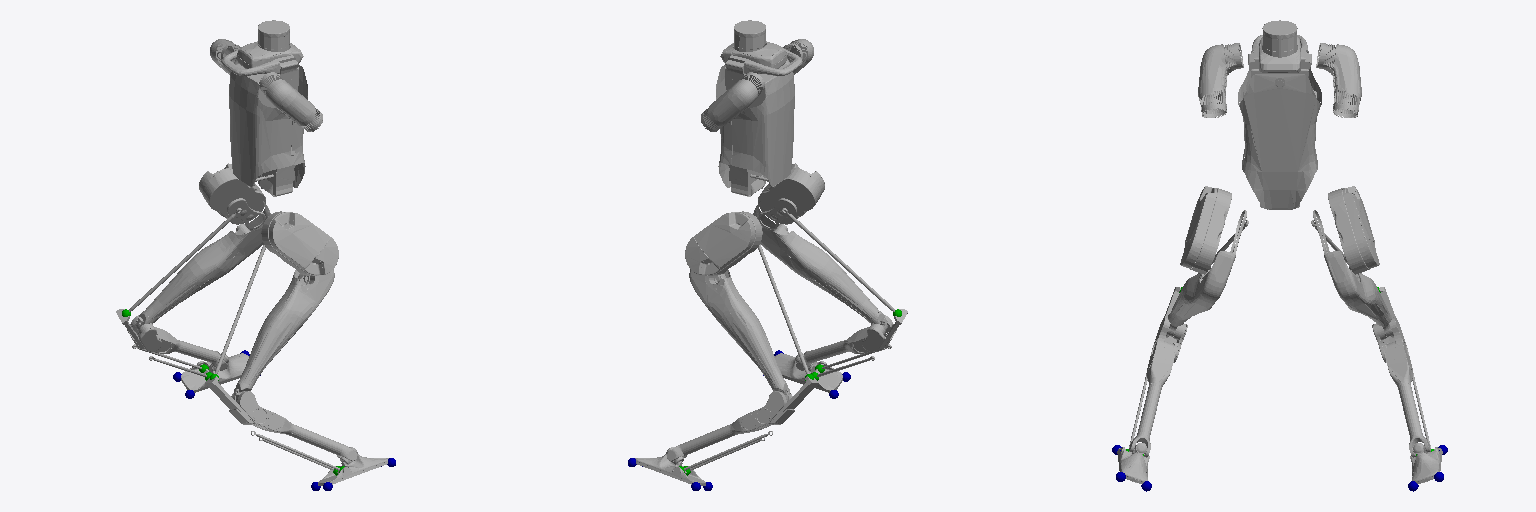
--- Facts derived from the render (not from the file) ---
Views: 3 orthographic renders of the robot side by side, from view 1: azimuth 30°, elevation 25°; view 2: azimuth 150°, elevation 25°; view 3: azimuth 270°, elevation 25°.
Model digit with 62 links and 61 joints (37 revolute, 24 fixed), rooted at world, posed all joints at 0.
Links seen in each view (by area): view 1: torso, left_shin, right_shin, right_hip_pitch, left_hip_pitch, right_tarsus, right_shoulder_pitch, left_tarsus, left_toe_roll, right_toe_roll, left_achillies_rod, left_shoulder_pitch; view 2: torso, right_shin, left_shin, left_hip_pitch, right_hip_pitch, left_tarsus, left_shoulder_pitch, right_tarsus, right_toe_roll, left_toe_roll, right_achillies_rod, right_shoulder_pitch (+1 smaller); view 3: torso, left_hip_pitch, right_hip_pitch, left_tarsus, right_tarsus, left_shin, right_shin, left_shoulder_pitch, right_shoulder_pitch, left_toe_roll, right_toe_roll.
Link boxes in pixels (bbox=[...]): torso: bbox=[221, 20, 307, 196]; left_shin: bbox=[136, 201, 270, 330]; right_shin: bbox=[234, 269, 334, 401]; right_hip_pitch: bbox=[261, 211, 338, 275]; left_hip_pitch: bbox=[199, 163, 265, 229]; right_tarsus: bbox=[229, 391, 356, 460]; right_shoulder_pitch: bbox=[259, 72, 322, 131]; left_tarsus: bbox=[127, 315, 227, 370]; left_toe_roll: bbox=[181, 353, 248, 392]; right_toe_roll: bbox=[318, 447, 388, 485]; left_achillies_rod: bbox=[129, 208, 241, 311]; left_shoulder_pitch: bbox=[210, 39, 240, 74]; torso: bbox=[716, 20, 802, 196]; right_shin: bbox=[753, 201, 887, 330]; left_shin: bbox=[689, 269, 789, 401]; left_hip_pitch: bbox=[685, 211, 762, 275]; right_hip_pitch: bbox=[758, 163, 824, 229]; left_tarsus: bbox=[667, 391, 794, 460]; left_shoulder_pitch: bbox=[701, 72, 764, 131]; right_tarsus: bbox=[796, 315, 896, 370]; right_toe_roll: bbox=[775, 353, 842, 392]; left_toe_roll: bbox=[635, 447, 705, 485]; right_achillies_rod: bbox=[782, 208, 894, 311]; right_shoulder_pitch: bbox=[783, 39, 813, 74]; torso: bbox=[1238, 20, 1321, 209]; left_hip_pitch: bbox=[1313, 186, 1379, 274]; right_hip_pitch: bbox=[1180, 186, 1246, 274]; left_tarsus: bbox=[1372, 317, 1430, 457]; right_tarsus: bbox=[1129, 317, 1187, 457]; left_shin: bbox=[1324, 251, 1393, 337]; right_shin: bbox=[1166, 251, 1235, 337]; left_shoulder_pitch: bbox=[1316, 43, 1361, 117]; right_shoulder_pitch: bbox=[1198, 43, 1243, 117]; left_toe_roll: bbox=[1410, 443, 1442, 483]; right_toe_roll: bbox=[1117, 443, 1149, 483].
Size in the robot's own frame: 0.5717 by 0.9632 by 1.42 metres.
19 mesh visuals loaded from 25 distinct referenced files (10 binary STL); not drawn: 22 (reference not matched to a file when rendering).

robot.urdf — digit:
<?xml version="1.0" encoding="utf-8"?>
<robot name="digit">
    <mujoco>
        <compiler meshdir="./meshes_new/" balanceinertia="false" discardvisual="false"/>
    </mujoco>
    <link name="world" />
    <joint name="base_joint" type="revolute">
        <origin rpy="0 0 0" xyz="0 0 0.0"/>
        <parent link="world"/>
        <child link="torso"/>
    </joint>

    <link name="torso">
        <inertial>
            <origin rpy="0 0 0" xyz="0.001637 0.0002 0.259547"/>
            <mass value="15.028392"/>
            <inertia ixx="0.376284" ixy="-8.8e-05" ixz="0.008378" iyy="0.342655" iyz="6.7e-05" izz="0.100648"/>
        </inertial>
        <visual>
            <origin rpy="0 0 0" xyz="0 0 0"/>
            <geometry>
                <mesh filename="./meshes_new/torso.stl"/>
            </geometry>

            <material name="LightGrey">
                <color rgba="0.7 0.7 0.7 1.0"/>
            </material>
        </visual>
        <!-- <collision>
            <origin rpy="0 0 0" xyz="0 0 0"/>
            <geometry>
                <mesh filename="./meshes_new/torso.stl"/>
            </geometry>
        </collision> -->
    </link>

    <joint name="left_waist_cap_joint" type="fixed">
        <origin rpy="-1.57079632679 1.57 1.57079632679" xyz="-0.001 0.09 0.0"/>
        <axis xyz="0 0 1"/>
        <parent link="torso"/>
        <child link="left_waist_cap"/>
        <limit effort="1.4" lower="-1.309" upper="1.309" velocity="12.5"/>
    </joint>

    <link name="left_waist_cap">
        <inertial>
            <origin rpy="0 0 0" xyz="9e-06 0.003158 0.023405"/>
            <mass value="0.535396"/>
            <inertia ixx="0.000704" ixy="-1.4e-05" ixz="1.2e-05" iyy="0.00075" iyz="-3.5e-05" izz="0.000298"/>
        </inertial>
        <visual>
            <origin rpy="0 0 0" xyz="0 0 0"/>
            <geometry>
                <mesh filename="./meshes_new/left-waist-cap.stl" scale="1 -1 1"/>
            </geometry>
            <material name="LightGrey">
                <color rgba="0.7 0.7 0.7 1.0"/>
            </material>
        </visual>
        <!-- <collision>
            <origin rpy="0 0 0" xyz="0 0 0"/>
            <geometry>
                <mesh filename="./meshes_new/shoulder-roll-housing.stl" scale="1 -1 1"/>
            </geometry>
        </collision> -->
    </link>

    <joint name="left-hip-roll_joint" type="revolute">
        <origin rpy="1.57079632679 -1.1955506 -1.57079632679" xyz="-0.001 0.091 0"/>
        <axis xyz="0 0 1"/>
        <parent link="torso"/>
        <child link="left_hip_roll"/>
        <limit effort="1.4" lower="-1.0472" upper="1.0472" velocity="12.15"/>
    </joint>
    <link name="left_hip_roll">
        <inertial>
            <origin rpy="0 0 0" xyz="-0.001967 0.000244 0.031435"/>
            <mass value="0.915088"/>
            <inertia ixx="0.001017" ixy="-3e-06" ixz="1.3e-05" iyy="0.001148" iyz="-4e-06" izz="0.000766"/>
        </inertial>
        <visual>
            <origin rpy="0 0 0" xyz="0 0 0"/>
            <geometry>
                <mesh filename="./meshes_new/hip-yaw-housing.stl"/>
            </geometry>

            <material name="LightGrey">
                <color rgba="0.7 0.7 0.7 1.0"/>
            </material>
        </visual>
        <!-- <collision>
            <origin rpy="0 0 0" xyz="0 0 0"/>
            <geometry>
                <mesh filename="./meshes_new/hip-yaw-housing.stl"/>
            </geometry>
        </collision> -->
    </link>

    <joint name="left_hip_yaw_joint" type="revolute">
        <origin rpy="0 -1.57079632679 0" xyz="-0.0505 0 0.044"/>
        <axis xyz="0 0 1"/>
        <parent link="left_hip_roll"/>
        <child link="left_hip_yaw"/>
        <limit effort="1.4" lower="-0.698132" upper="0.698132" velocity="12.15"/>
    </joint>

    <link name="left_hip_yaw">
        <inertial>
            <origin rpy="0 0 0" xyz="1e-05 -0.001945 0.042033"/>
            <mass value="0.818753"/>
            <inertia ixx="0.001627" ixy="-1e-06" ixz="2e-06" iyy="0.001929" iyz="5.3e-05" izz="0.00077"/>
        </inertial>
        <visual>
            <origin rpy="0 0 0" xyz="0 0 0"/>
            <geometry>
                <mesh filename="./meshes_new/hip-pitch-housing.stl"/>
            </geometry>

            <material name="LightGrey">
                <color rgba="0.7 0.7 0.7 1.0"/>
            </material>
        </visual>
        <!-- <collision>
            <origin rpy="0 0 0" xyz="0 0 0"/>
            <geometry>
                <mesh filename="./meshes_new/hip-pitch-housing.stl"/>
            </geometry>
        </collision> -->
    </link>

    <joint name="left_hip_pitch_joint" type="revolute">
        <origin rpy="-1.57079632679 -0.7853981 3.1415927" xyz="0 0.004 0.068"/>
        <axis xyz="0 0 -1"/>
        <parent link="left_hip_yaw"/>
        <child link="left_hip_pitch"/>
        <limit effort="12.5" lower="-1.0472" upper="1.57079632679" velocity="8.5"/>
    </joint>

    <link name="left_hip_pitch">
        <inertial>
            <origin rpy="0 0 0" xyz="0.060537 0.000521 -0.038857"/>
            <mass value="6.244279"/>
            <inertia ixx="0.011533" ixy="-0.000171" ixz="0.000148" iyy="0.033345" iyz="0.000178" izz="0.033958"/>
        </inertial>
        <visual>
            <origin rpy="0 0 0" xyz="0 0 0"/>
            <geometry>
                <mesh filename="./meshes_new/hip-pitch.stl"/>
            </geometry>

            <material name="LightGrey">
                <color rgba="0.7 0.7 0.7 1.0"/>
            </material>
        </visual>
        <!-- <collision>
            <origin rpy="0 0 0" xyz="0 0 0"/>
            <geometry>
                <mesh filename="./meshes_new/hip-pitch.stl"/>
            </geometry>
        </collision> -->
    </link>

    <joint name="left_achillies_rod_joint" type="revolute">
        <origin rpy="0.0087529 0.0708516 -1.435541" xyz="0 0 0.046"/>
        <axis xyz="0 1 0"/>
        <parent link="left_hip_pitch"/>
        <child link="left_achillies_rod"/>
        <limit effort="12.5" lower="-1.5" upper="1.5" velocity="8.5085"/>
    </joint>

    <!-- <link name="left_achillies_rod_parent"/>

    <joint name="left_achillies_rod_joint2" type="revolute">
        <origin rpy="0 0 0" xyz="0 0 0"/>
        <axis xyz="0 0 1"/>
        <parent link="left_achillies_rod_parent"/>
        <child link="left_achillies_rod"/>
        <limit effort="12.5" lower="-1.5" upper="1.5" velocity="8.5085"/>
    </joint> -->

    <link name="left_achillies_rod">
        <inertial>
            <origin rpy="0 0 0" xyz="0.2506 0 0"/>
            <mass value="0.178148"/>
            <inertia ixx="3e-06" ixy="0" ixz="0" iyy="0.004501" iyz="0" izz="0.004501"/>
        </inertial>
        <visual>
            <origin rpy="0 0 0" xyz="0 0 0"/>
            <geometry>
                <mesh filename="./meshes_new/achilles-rod.stl"/>
            </geometry>

            <material name="LightGrey">
                <color rgba="0.7 0.7 0.7 1.0"/>
            </material>
        </visual>
        <!-- <collision>
            <origin rpy="0 0 0" xyz="0 0 0"/>
            <geometry>
                <mesh filename="./meshes_new/achilles-rod.stl"/>
            </geometry>
        </collision> -->
    </link>

    <joint name="left_knee_joint" type="revolute">
        <origin rpy="0 0 -1.57079632679" xyz="0.12 0 0.0045"/>
        <axis xyz="0 0 1"/>
        <parent link="left_hip_pitch"/>
        <child link="left_knee"/>
        <limit effort="12.5" lower="-1.2392" upper="0.8727" velocity="8.5085"/>
    </joint>

    <link name="left_knee">
        <inertial>
            <origin rpy="0 0 0" xyz="0.045641 0.042154 0.001657"/>
            <mass value="1.227077"/>
            <inertia ixx="0.002643" ixy="-0.001832" ixz="6.6e-05" iyy="0.005098" iyz="4.5e-05" izz="0.007019"/>
        </inertial>
        <visual>
            <origin rpy="0 0 0" xyz="0 0 0"/>
            <geometry>
                <mesh filename="./meshes_new/knee.stl"/>
            </geometry>

            <material name="LightGrey">
                <color rgba="0.7 0.7 0.7 1.0"/>
            </material>
        </visual>
        <!-- <collision>
            <origin rpy="0 0 0" xyz="0 0 0"/>
            <geometry>
                <mesh filename="./meshes_new/knee.stl"/>
            </geometry>
        </collision> -->
    </link>

    <joint name="left_shin_joint" type="revolute">
        <origin rpy="0 0 0" xyz="0.060677 0.047406 0"/>
        <axis xyz="0 0 1"/>
        <parent link="left_knee"/>
        <child link="left_shin"/>
        <limit effort="0" lower="-3.14" upper="3.14" velocity="15"/>
    </joint>

    <link name="left_shin">
        <inertial>
            <origin rpy="0 0 0" xyz="0.174265 0.010265 0.00107"/>
            <mass value="0.895793"/>
            <inertia ixx="0.001128" ixy="0.001098" ixz="0.000196" iyy="0.022492" iyz="-3e-06" izz="0.022793"/>
        </inertial>
        <visual>
            <origin rpy="0 0 0" xyz="0 0 0"/>
            <geometry>
                <mesh filename="./meshes_new/shin.stl"/>
            </geometry>

            <material name="LightGrey">
                <color rgba="0.7 0.7 0.7 1.0"/>
            </material>
        </visual>
        <!-- <collision>
            <origin rpy="0 0 0" xyz="0 0 0"/>
            <geometry>
                <mesh filename="./meshes_new/shin.stl"/>
            </geometry>
        </collision> -->
    </link>

    <joint name="left_tarsus_joint" type="revolute">
        <origin rpy="0 0 1.7976891" xyz="0.434759 0.02 0"/>
        <axis xyz="0 0 1"/>
        <parent link="left_shin"/>
        <child link="left_tarsus"/>
        <limit effort="0" lower="-0.8779" upper="1.2497" velocity="20"/>
    </joint>

    <link name="left_tarsus">
        <inertial>
            <origin rpy="0 0 0" xyz="0.100777 -0.029183 0.000678"/>
            <mass value="1.322865"/>
            <inertia ixx="0.000932" ixy="0.00061" ixz="0.000102" iyy="0.016409" iyz="9e-06" izz="0.016501"/>
        </inertial>
        <visual>
            <origin rpy="0 0 0" xyz="0 0 0"/>
            <geometry>
                <mesh filename="./meshes_new/tarsus.stl"/>
            </geometry>

            <material name="LightGrey">
                <color rgba="0.7 0.7 0.7 1.0"/>
            </material>
        </visual>
        <!-- <collision>
            <origin rpy="0 0 0" xyz="0 0 0"/>
            <geometry>
                <mesh filename="./meshes_new/tarsus.stl"/>
            </geometry>
        </collision> -->
    </link>

    <joint name="left_heel_spring_joint" type="revolute">
        <origin rpy="-0.0689073 -0.0370354 2.7207176" xyz="-0.01766 -0.029456 0.00104"/>
        <axis xyz="0 0 1"/>
        <parent link="left_tarsus"/>
        <child link="left_heel_spring"/>
        <limit effort="0.9" lower="-0.104719753333" upper="0.104719753333" velocity="11.5"/>
    </joint>

    <link name="left_heel_spring">
        <inertial>
            <origin rpy="0 0 0" xyz="0.049086 0.004739 -4.5e-05"/>
            <mass value="0.230018"/>
            <inertia ixx="5.5e-05" ixy="1.5e-05" ixz="1e-06" iyy="0.00074" iyz="0" izz="0.000701"/>
        </inertial>
        <visual>
            <origin rpy="0 0 0" xyz="0 0 0"/>
            <geometry>
                <mesh filename="./meshes_new/heel-spring.stl"/>
            </geometry>

            <material name="LightGrey">
                <color rgba="0.7 0.7 0.7 1.0"/>
            </material>
        </visual>
        <!-- <collision>
            <origin rpy="0 0 0" xyz="0 0 0"/>
            <geometry>
                <mesh filename="./meshes_new/heel-spring.stl"/>
            </geometry>
        </collision> -->
    </link>

    <joint name="left_toe_A_joint" type="revolute">
        <origin rpy="3.1415927 0 -1.6050048" xyz="0.059 -0.034 -0.0276"/>
        <axis xyz="0 0 1"/>
        <parent link="left_tarsus"/>
        <child link="left_toe_A"/>
        <limit effort="0.9" lower="-0.912807183222" upper="1.2644910215" velocity="11.5"/>
    </joint>

    <link name="left_toe_A">
        <inertial>
            <origin rpy="0 0 0" xyz="0.005161 1e-06 -0.002248"/>
            <mass value="0.139557"/>
            <inertia ixx="2.9e-05" ixy="0" ixz="-4e-06" iyy="5.8e-05" iyz="0" izz="7.4e-05"/>
        </inertial>
        <visual>
            <origin rpy="0 0 0" xyz="0 0 0"/>
            <geometry>
                <mesh filename="./meshes_new/toe-output-ll.stl"/>
            </geometry>

            <material name="LightGrey">
                <color rgba="0.7 0.7 0.7 1.0"/>
            </material>
        </visual>
        <!-- <collision>
            <origin rpy="0 0 0" xyz="0 0 0"/>
            <geometry>
                <mesh filename="./meshes_new/toe-output-ll.stl"/>
            </geometry>
        </collision> -->
    </link>

    <joint name="left_toe_A_rod_joint" type="revolute">
        <origin rpy="-0.0374899 0.0049742 -1.5964351" xyz="0.057 0 -0.008"/>
        <axis xyz="0 1 0"/>
        <parent link="left_toe_A"/>
        <child link="left_toe_A_rod"/>
        <limit effort="0.9" lower="-3.785398163397" upper="3.785398163397" velocity="11.5"/>
    </joint>

    <!-- <link name="left_toe_A_rod_parent" />

    <joint name="left_toe_A_rod_joint" type="revolute">
        <origin rpy="0 0 0" xyz="0 0 0"/>
        <axis xyz="0 0 1"/>
        <parent link="left_toe_A_rod_parent"/>
        <child link="left_toe_A_rod"/>
        <limit effort="0.9" lower="-3.785398163397" upper="3.785398163397" velocity="11.5"/>
    </joint> -->

    <link name="left_toe_A_rod">
        <inertial>
            <origin rpy="0 0 0" xyz="0.171071 0 0"/>
            <mass value="0.090983"/>
            <inertia ixx="1e-06" ixy="0" ixz="0" iyy="0.001182" iyz="0" izz="0.001182"/>
        </inertial>
        <visual>
            <origin rpy="0 0 0" xyz="0 0 0"/>
            <geometry>
                <mesh filename="./meshes_new/toe-A-rod.stl"/>
            </geometry>

            <material name="LightGrey">
                <color rgba="0.7 0.7 0.7 1.0"/>
            </material>
        </visual>
        <!-- <collision>
            <origin rpy="0 0 0" xyz="0 0 0"/>
            <geometry>
                <mesh filename="./meshes_new/toe-A-rod.stl"/>
            </geometry>
        </collision> -->
    </link>

    <joint name="left_toe_B_joint" type="revolute">
        <origin rpy="0 0 -1.6049813" xyz="0.111 -0.034 0.0276"/>
        <axis xyz="0 0 1"/>
        <parent link="left_tarsus"/>
        <child link="left_toe_B"/>
        <limit effort="0.9" lower="-0.912807183222" upper="1.2644910215" velocity="11.5"/>
    </joint>

    <link name="left_toe_B">
        <inertial>
            <origin rpy="0 0 0" xyz="0.005161 1e-06 -0.002248"/>
            <mass value="0.139557"/>
            <inertia ixx="2.9e-05" ixy="0" ixz="-4e-06" iyy="5.8e-05" iyz="0" izz="7.4e-05"/>
        </inertial>
        <visual>
            <origin rpy="0 0 0" xyz="0 0 0"/>
            <geometry>
                <mesh filename="./meshes_new/toe-output-lr.stl"/>
            </geometry>

            <material name="LightGrey">
                <color rgba="0.7 0.7 0.7 1.0"/>
            </material>
        </visual>
        <!-- <collision>
            <origin rpy="0 0 0" xyz="0 0 0"/>
            <geometry>
                <mesh filename="./meshes_new/toe-output-lr.stl"/>
            </geometry>
        </collision> -->
    </link>

    <joint name="left_toe_B_rod_joint" type="revolute">
        <origin rpy="-0.0536482 0.0051326 1.5948474" xyz="0.057 0 -0.008"/>
        <axis xyz="0 1 0"/>
        <parent link="left_toe_B"/>
        <child link="left_toe_B_rod"/>
        <limit effort="0.9" lower="-3.785398163397" upper="3.785398163397" velocity="11.5"/>
    </joint>

    <!-- <link name="left_toe_B_rod_parent" />

    <joint name="left_toe_B_rod_joint" type="revolute">
        <origin rpy="0 0 0" xyz="0 0 0"/>
        <axis xyz="0 0 1"/>
        <parent link="left_toe_B_rod_parent"/>
        <child link="left_toe_B_rod"/>
        <limit effort="0.9" lower="-3.785398163397" upper="3.785398163397" velocity="11.5"/>
    </joint> -->

    <link name="left_toe_B_rod">
        <inertial>
            <origin rpy="0 0 0" xyz="0.142991 0 0"/>
            <mass value="0.079507"/>
            <inertia ixx="1e-06" ixy="0" ixz="0" iyy="0.000768" iyz="0" izz="0.000768"/>
        </inertial>
        <visual>
            <origin rpy="0 0 0" xyz="0 0 0"/>
            <geometry>
                <mesh filename="./meshes_new/toe-B-rod.stl"/>
            </geometry>

            <material name="LightGrey">
                <color rgba="0.7 0.7 0.7 1.0"/>
            </material>
        </visual>
        <!-- <collision>
            <origin rpy="0 0 0" xyz="0 0 0"/>
            <geometry>
                <mesh filename="./meshes_new/toe-B-rod.stl"/>
            </geometry>
        </collision> -->
    </link>

    <joint name="left_toe_pitch_joint" type="revolute">
        <origin rpy="0 0 1.1956" xyz="0.408 -0.04 0"/>
        <axis xyz="0 0 1"/>
        <parent link="left_tarsus"/>
        <child link="left_toe_pitch"/>
        <limit effort="0.9" lower="-0.785398163397" upper="0.785398163397" velocity="11.5"/>
    </joint>

    <link name="left_toe_pitch">
        <inertial>
            <origin rpy="0 0 0" xyz="-0.000141 2e-06 3e-06"/>
            <mass value="0.043881"/>
            <inertia ixx="5e-06" ixy="0" ixz="0" iyy="8e-06" iyz="0" izz="5e-06"/>
        </inertial>
        <visual>
            <origin rpy="0 0 0" xyz="0 0 0"/>
            <geometry>
                <mesh filename="./meshes_new/toe-pitch.stl"/>
            </geometry>

            <material name="LightGrey">
                <color rgba="0.7 0.7 0.7 1.0"/>
            </material>
        </visual>
        <!-- <collision>
            <origin rpy="0 0 0" xyz="0 0 0"/>
            <geometry>
                <mesh filename="./meshes_new/toe-pitch.stl"/>
            </geometry>
        </collision> -->
    </link>

    <joint name="left_toe_roll_joint" type="revolute">
        <origin rpy="0 1.57079632679 0" xyz="0 0 0"/>
        <axis xyz="0 0 1"/>
        <parent link="left_toe_pitch"/>
        <child link="left_toe_roll"/>
        <limit effort="0.9" lower="-0.6109" upper="0.6109" velocity="11.5"/>
    </joint>

    <link name="left_toe_roll">
        <inertial>
            <origin rpy="0 0 0" xyz="9e-06 -0.028084 -0.023204"/>
            <mass value="0.531283"/>
            <inertia ixx="0.00187" ixy="0" ixz="0" iyy="0.001616" iyz="0.000566" izz="0.000843"/>
        </inertial>
        <visual>
            <origin rpy="0 0 0" xyz="0 0 0"/>
            <geometry>
                <mesh filename="./meshes_new/toe-roll.stl"/>
            </geometry>

            <material name="LightGrey">
                <color rgba="0.7 0.7 0.7 1.0"/>
            </material>
        </visual>
        <!-- <collision>
            <origin rpy="0 0 0" xyz="0 0 0"/>
            <geometry>
                <mesh filename="./meshes_new/toe-roll.stl"/>
            </geometry>
        </collision> -->
    </link>

    <joint name="left_shoulder_cap_joint" type="fixed">
        <origin rpy="-1.57079632679 -1.3962633 1.57079632679" xyz="0.001 0.12 0.4"/>
        <axis xyz="0 0 1"/>
        <parent link="torso"/>
        <child link="left_shoulder_cap"/>
        <limit effort="1.4" lower="-1.309" upper="1.309" velocity="12.5"/>
    </joint>

    <link name="left_shoulder_cap">
        <inertial>
            <origin rpy="0 0 0" xyz="9e-06 -0.003158 0.023405"/>
            <mass value="0.535396"/>
            <inertia ixx="0.000704" ixy="1.4e-05" ixz="1.2e-05" iyy="0.00075" iyz="3.5e-05" izz="0.000298"/>
        </inertial>
        <visual>
            <origin rpy="0 0 0" xyz="0 0 0"/>
            <geometry>
                <mesh filename="./meshes_new/left-shoulder-cap.stl"/>
            </geometry>

            <material name="LightGrey">
                <color rgba="0.7 0.7 0.7 1.0"/>
            </material>
        </visual>
        <!-- <collision>
            <origin rpy="0 0 0" xyz="0 0 0"/>
            <geometry>
                <mesh filename="./meshes_new/shoulder-roll-housing.stl"/>
            </geometry>
        </collision> -->
    </link>

    <joint name="left_shoulder_roll_joint" type="revolute">
        <origin rpy="-1.57079632679 -1.3962633 1.57079632679" xyz="-0.001 0.12 0.4"/>
        <axis xyz="0 0 1"/>
        <parent link="torso"/>
        <child link="left_shoulder_roll"/>
        <limit effort="1.4" lower="-1.309" upper="1.309" velocity="12.5"/>
    </joint>

    <link name="left_shoulder_roll">
        <inertial>
            <origin rpy="0 0 0" xyz="9e-06 -0.003158 0.023405"/>
            <mass value="0.535396"/>
            <inertia ixx="0.000704" ixy="1.4e-05" ixz="1.2e-05" iyy="0.00075" iyz="3.5e-05" izz="0.000298"/>
        </inertial>
        <visual>
            <origin rpy="0 0 0" xyz="0 0 0"/>
            <geometry>
                <mesh filename="./meshes_new/arm-L1.stl"/>
            </geometry>

            <material name="LightGrey">
                <color rgba="0.7 0.7 0.7 1.0"/>
            </material>
        </visual>
        <!-- <collision>
            <origin rpy="0 0 0" xyz="0 0 0"/>
            <geometry>
                <mesh filename="./meshes_new/arm-L1.stl"/>
            </geometry>
        </collision> -->
    </link>

    <joint name="left_shoulder_pitch_joint" type="revolute">
        <origin rpy="1.57079632679 0.785398163397 0.0" xyz="-0.00017 -0.011055 0.0555"/>
        <axis xyz="0 0 -1"/>
        <parent link="left_shoulder_roll"/>
        <child link="left_shoulder_pitch"/>
        <limit effort="1.4" lower="-2.5307" upper="2.5307" velocity="12.5"/>
    </joint>

    <link name="left_shoulder_pitch">
        <inertial>
            <origin rpy="0 0 0" xyz="-4.2e-05 -0.061882 -0.073788"/>
            <mass value="1.440357"/>
            <inertia ixx="0.006761" ixy="-6e-06" ixz="-3e-06" iyy="0.002087" iyz="-0.002046" izz="0.005778"/>
        </inertial>
        <visual>
            <origin rpy="0 0 0" xyz="0 0 0"/>
            <geometry>
                <mesh filename="./meshes_new/arm-L2.stl"/>
            </geometry>
            <material name="LightGrey">
                <color rgba="0.7 0.7 0.7 1.0"/>
            </material>
        </visual>
        <!-- <collision>
            <origin rpy="0 0 0" xyz="0 0 0"/>
            <geometry>
                <mesh filename="./meshes_new/arm-L2.stl"/>
            </geometry>
        </collision> -->
    </link>

    <joint name="shoulder_yaw_joint_left" type="revolute">
        <origin rpy="1.57079632679 0 0" xyz="0 -0.165 -0.1"/>
        <axis xyz="0 0 1"/>
        <parent link="left_shoulder_pitch"/>
        <child link="left_shoulder_yaw"/>
        <limit effort="1.4" lower="-1.7453" upper="1.7453" velocity="10"/>
    </joint>

    <link name="left_shoulder_yaw">
        <inertial>
            <origin rpy="0 0 0" xyz="-3e-05 -0.001937 0.11407"/>
            <mass value="1.065387"/>
            <inertia ixx="0.006967" ixy="1e-06" ixz="-1e-06" iyy="0.007003" iyz="1.5e-05" izz="0.000673"/>
        </inertial>
        <visual>
            <origin rpy="0 0 0" xyz="0 0 0"/>
            <geometry>
                <mesh filename="./meshes_new/arm-L3.stl"/>
            </geometry>

            <material name="LightGrey">
                <color rgba="0.7 0.7 0.7 1.0"/>
            </material>
        </visual>
        <!-- <collision>
            <origin rpy="0 0 0" xyz="0 0 0"/>
            <geometry>
                <mesh filename="./meshes_new/arm-L3.stl"/>
            </geometry>
        </collision> -->
    </link>

    <joint name="left_elbow_joint" type="revolute">
        <origin rpy="1.57079632679 -0.3926991 0" xyz="0 -0.0385 0.185"/>
        <axis xyz="0 0 1"/>
        <parent link="left_shoulder_yaw"/>
        <child link="left_elbow"/>
        <limit effort="1.4" lower="-1.3526" upper="1.3526" velocity="12.5"/>
    </joint>

    <link name="left_elbow">
        <inertial>
            <origin rpy="0 0 0" xyz="0.107996 -0.000521 -0.017765"/>
            <mass value="0.550582"/>
            <inertia ixx="0.000476" ixy="-2.9e-05" ixz="0.001403" iyy="0.009564" iyz="9e-06" izz="0.009437"/>
        </inertial>
        <visual>
            <origin rpy="0 0 0" xyz="0 0 0"/>
            <geometry>
                <mesh filename="./meshes_new/arm-L4.stl"/>
            </geometry>

            <material name="LightGrey">
                <color rgba="0.7 0.7 0.7 1.0"/>
            </material>
        </visual>
        <!-- <collision>
            <origin rpy="0 0 0" xyz="0 0 0"/>
            <geometry>
                <mesh filename="./meshes_new/arm-L4.stl"/>
            </geometry>
        </collision> -->
    </link>


    <joint name="right_waist_cap_joint" type="fixed">
        <origin rpy="1.57079632679 1.57 -1.57079632679" xyz="-0.001 -0.09 0.0"/>
        <axis xyz="0 0 1"/>
        <parent link="torso"/>
        <child link="right_waist_cap"/>
        <limit effort="1.4" lower="-1.309" upper="1.309" velocity="12.5"/>
    </joint>

    <link name="right_waist_cap">
        <inertial>
            <origin rpy="0 0 0" xyz="9e-06 -0.003158 0.023405"/>
            <mass value="0.535396"/>
            <inertia ixx="0.000704" ixy="1.4e-05" ixz="1.2e-05" iyy="0.00075" iyz="3.5e-05" izz="0.000298"/>
        </inertial>
        <visual>
            <origin rpy="0 0 0" xyz="0 0 0"/>
            <geometry>
                <mesh filename="./meshes_new/right-waist-cap.stl"/>
            </geometry>
            <material name="LightGrey">
                <color rgba="0.7 0.7 0.7 1.0"/>
            </material>
        </visual>
        <!-- <collision>
            <origin rpy="0 0 0" xyz="0 0 0"/>
            <geometry>
                <mesh filename="./meshes_new/shoulder-roll-housing.stl"/>
            </geometry>
        </collision> -->
    </link>

    <joint name="right-hip-roll_joint" type="revolute">
        <origin rpy="-1.57079632679 -1.1955506 1.57079632679" xyz="-0.001 -0.091 0"/>
        <axis xyz="0 0 1"/>
        <parent link="torso"/>
        <child link="right_hip_roll"/>
        <limit effort="1.4" lower="-1.0472" upper="1.0472" velocity="12.15"/>
    </joint>
    <link name="right_hip_roll">
        <inertial>
            <origin rpy="0 0 0" xyz="-0.001967 -0.000244 0.031435"/>
            <mass value="0.915088"/>
            <inertia ixx="0.001017" ixy="3e-06" ixz="1.3e-05" iyy="0.001148" iyz="4e-06" izz="0.000766"/>
        </inertial>
        <visual>
            <origin rpy="0 0 0" xyz="0 0 0"/>
            <geometry>
                <mesh filename="./meshes_new/hip-yaw-housing.stl" scale="1 -1 1"/>
            </geometry>

            <material name="LightGrey">
                <color rgba="0.7 0.7 0.7 1.0"/>
            </material>
        </visual>
        <!-- <collision>
            <origin rpy="0 0 0" xyz="0 0 0"/>
            <geometry>
                <mesh filename="./meshes_new/hip-yaw-housing.stl" scale="1 -1 1"/>
            </geometry>
        </collision> -->
    </link>

    <joint name="right_hip_yaw_joint" type="revolute">
        <origin rpy="0 -1.57079632679 0" xyz="-0.0505 0 0.044"/>
        <axis xyz="0 0 1"/>
        <parent link="right_hip_roll"/>
        <child link="right_hip_yaw"/>
        <limit effort="1.4" lower="-0.698132" upper="0.698132" velocity="12.15"/>
    </joint>

    <link name="right_hip_yaw">
        <inertial>
            <origin rpy="0 0 0" xyz="1e-05 0.001945 0.042033"/>
            <mass value="0.818753"/>
            <inertia ixx="0.001627" ixy="1e-06" ixz="2e-06" iyy="0.001929" iyz="-5.3e-05" izz="0.00077"/>
        </inertial>
        <visual>
            <origin rpy="0 0 0" xyz="0 0 0"/>
            <geometry>
                <mesh filename="./meshes_new/hip-pitch-housing.stl" scale="1 -1 1"/>
            </geometry>

            <material name="LightGrey">
                <color rgba="0.7 0.7 0.7 1.0"/>
            </material>
        </visual>
        <!-- <collision>
            <origin rpy="0 0 0" xyz="0 0 0"/>
            <geometry>
                <mesh filename="./meshes_new/hip-pitch-housing.stl" scale="1 -1 1"/>
            </geometry>
        </collision> -->
    </link>

    <joint name="right_hip_pitch_joint" type="revolute">
        <origin rpy="1.57079632679 -0.7853981 -3.1415927" xyz="0 -0.004 0.068"/>
        <axis xyz="0 0 -1"/>
        <parent link="right_hip_yaw"/>
        <child link="right_hip_pitch"/>
        <limit effort="12.5" lower="-1.0472" upper="1.57079632679" velocity="8.5"/>
    </joint>

    <link name="right_hip_pitch">
        <inertial>
            <origin rpy="0 0 0" xyz="0.060537 -0.000521 -0.038857"/>
            <mass value="6.244279"/>
            <inertia ixx="0.011533" ixy="0.000171" ixz="0.000148" iyy="0.033345" iyz="-0.000178" izz="0.033958"/>
        </inertial>
        <visual>
            <origin rpy="0 0 0" xyz="0 0 0"/>
            <geometry>
                <mesh filename="./meshes_new/hip-pitch.stl" scale="1 -1 1"/>
            </geometry>

            <material name="LightGrey">
                <color rgba="0.7 0.7 0.7 1.0"/>
            </material>
        </visual>
        <!-- <collision>
            <origin rpy="0 0 0" xyz="0 0 0"/>
            <geometry>
                <mesh filename="./meshes_new/hip-pitch.stl" scale="1 -1 1"/>
            </geometry>
        </collision> -->
    </link>

    <joint name="right_achillies_rod_joint" type="revolute">
        <origin rpy="-0.0087529 0.0708516 1.435541" xyz="0 0 0.046"/>
        <axis xyz="0 1 0"/>
        <parent link="right_hip_pitch"/>
        <child link="right_achillies_rod"/>
        <limit effort="12.5" lower="-1.5" upper="1.5" velocity="8.5085"/>
    </joint>

    <!-- <link name="right_achillies_rod_parent"/>

    <joint name="right_achillies_rod_joint2" type="revolute">
        <origin rpy="0 0 0" xyz="0 0 0"/>
        <axis xyz="0 0 1"/>
        <parent link="right_achillies_rod_parent"/>
        <child link="right_achillies_rod"/>
        <limit effort="12.5" lower="-1.5" upper="1.5" velocity="8.5085"/>
    </joint> -->

    <link name="right_achillies_rod">
        <inertial>
            <origin rpy="0 0 0" xyz="0.2506 0 0"/>
            <mass value="0.178148"/>
            <inertia ixx="3e-06" ixy="0" ixz="0" iyy="0.004501" iyz="0" izz="0.004501"/>
        </inertial>
        <visual>
            <origin rpy="0 0 0" xyz="0 0 0"/>
            <geometry>
                <mesh filename="./meshes_new/achilles-rod.stl" scale="1 -1 1"/>
            </geometry>

            <material name="LightGrey">
                <color rgba="0.7 0.7 0.7 1.0"/>
            </material>
        </visual>
        <!-- <collision>
            <origin rpy="0 0 0" xyz="0 0 0"/>
            <geometry>
                <mesh filename="./meshes_new/achilles-rod.stl" scale="1 -1 1"/>
            </geometry>
        </collision> -->
    </link>

    <joint name="right_knee_joint" type="revolute">
        <origin rpy="0 0 1.57079632679" xyz="0.12 0 0.0045"/>
        <axis xyz="0 0 1"/>
        <parent link="right_hip_pitch"/>
        <child link="right_knee"/>
        <limit effort="12.5" lower="-0.8727" upper="1.2392" velocity="8.5085"/>
    </joint>

    <link name="right_knee">
        <inertial>
            <origin rpy="0 0 0" xyz="0.045641 -0.042154 0.001657"/>
            <mass value="1.227077"/>
            <inertia ixx="0.002643" ixy="0.001832" ixz="6.6e-05" iyy="0.005098" iyz="-4.5e-05" izz="0.007019"/>
        </inertial>
        <visual>
            <origin rpy="0 0 0" xyz="0 0 0"/>
            <geometry>
                <mesh filename="./meshes_new/knee.stl" scale="1 -1 1"/>
            </geometry>

            <material name="LightGrey">
                <color rgba="0.7 0.7 0.7 1.0"/>
            </material>
        </visual>
        <!-- <collision>
            <origin rpy="0 0 0" xyz="0 0 0"/>
            <geometry>
                <mesh filename="./meshes_new/knee.stl" scale="1 -1 1"/>
            </geometry>
        </collision> -->
    </link>

    <joint name="right_shin_joint" type="revolute">
        <origin rpy="0 0 0" xyz="0.060677 -0.047406 0"/>
        <axis xyz="0 0 1"/>
        <parent link="right_knee"/>
        <child link="right_shin"/>
        <limit effort="0" lower="-3.14" upper="3.14" velocity="15"/>
    </joint>

    <link name="right_shin">
        <inertial>
            <origin rpy="0 0 0" xyz="0.174265 -0.010265 0.00107"/>
            <mass value="0.895793"/>
            <inertia ixx="0.001128" ixy="-0.001098" ixz="0.000196" iyy="0.022492" iyz="3e-06" izz="0.022793"/>
        </inertial>
        <visual>
            <origin rpy="0 0 0" xyz="0 0 0"/>
            <geometry>
                <mesh filename="./meshes_new/shin.stl" scale="1 -1 1"/>
            </geometry>

            <material name="LightGrey">
                <color rgba="0.7 0.7 0.7 1.0"/>
            </material>
        </visual>
        <!-- <collision>
            <origin rpy="0 0 0" xyz="0 0 0"/>
            <geometry>
                <mesh filename="./meshes_new/shin.stl" scale="1 -1 1"/>
            </geometry>
        </collision> -->
    </link>

    <joint name="right_tarsus_joint" type="revolute">
        <origin rpy="0 0 -1.7976891" xyz="0.434759 -0.02 0"/>
        <axis xyz="0 0 1"/>
        <parent link="right_shin"/>
        <child link="right_tarsus"/>
        <limit effort="0" lower="-1.2497" upper="0.8779" velocity="20"/>
    </joint>

    <link name="right_tarsus">
        <inertial>
            <origin rpy="0 0 0" xyz="0.100777 0.029183 0.000678"/>
            <mass value="1.322865"/>
            <inertia ixx="0.000932" ixy="-0.00061" ixz="0.000102" iyy="0.016409" iyz="-9e-06" izz="0.016501"/>
        </inertial>
        <visual>
            <origin rpy="0 0 0" xyz="0 0 0"/>
            <geometry>
                <mesh filename="./meshes_new/tarsus.stl" scale="1 -1 1"/>
            </geometry>

            <material name="LightGrey">
                <color rgba="0.7 0.7 0.7 1.0"/>
            </material>
        </visual>
        <!-- <collision>
            <origin rpy="0 0 0" xyz="0 0 0"/>
            <geometry>
                <mesh filename="./meshes_new/tarsus.stl" scale="1 -1 1"/>
            </geometry>
        </collision> -->
    </link>

    <joint name="right_heel_spring_joint" type="revolute">
        <origin rpy="0.0689073 -0.0370354 -2.7207176" xyz="-0.01766 0.029456 0.00104"/>
        <axis xyz="0 0 1"/>
        <parent link="right_tarsus"/>
        <child link="right_heel_spring"/>
        <limit effort="0.9" lower="-0.104719753333" upper="0.104719753333" velocity="11.5"/>
    </joint>

    <link name="right_heel_spring">
        <inertial>
            <origin rpy="0 0 0" xyz="0.049086 -0.004739 -4.5e-05"/>
            <mass value="0.230018"/>
            <inertia ixx="5.5e-05" ixy="-1.5e-05" ixz="1e-06" iyy="0.00074" iyz="0" izz="0.000701"/>
        </inertial>
        <visual>
            <origin rpy="0 0 0" xyz="0 0 0"/>
            <geometry>
                <mesh filename="./meshes_new/heel-spring.stl" scale="1 -1 1"/>
            </geometry>

            <material name="LightGrey">
                <color rgba="0.7 0.7 0.7 1.0"/>
            </material>
        </visual>
        <!-- <collision>
            <origin rpy="0 0 0" xyz="0 0 0"/>
            <geometry>
                <mesh filename="./meshes_new/heel-spring.stl" scale="1 -1 1"/>
            </geometry>
        </collision> -->
    </link>

    <joint name="right_toe_A_joint" type="revolute">
        <origin rpy="-3.1415927 0 1.6050048" xyz="0.059 0.034 -0.0276"/>
        <axis xyz="0 0 1"/>
        <parent link="right_tarsus"/>
        <child link="right_toe_A"/>
        <limit effort="0.9" lower="-1.2644910215" upper="0.912807183222" velocity="11.5"/>
    </joint>

    <link name="right_toe_A">
        <inertial>
            <origin rpy="0 0 0" xyz="0.005161 -1e-06 -0.002248"/>
            <mass value="0.139557"/>
            <inertia ixx="2.9e-05" ixy="0" ixz="-4e-06" iyy="5.8e-05" iyz="0" izz="7.4e-05"/>
        </inertial>
        <visual>
            <origin rpy="0 0 0" xyz="0 0 0"/>
            <geometry>
                <mesh filename="./meshes_new/toe-output-rl.stl" scale="1 -1 1"/>
            </geometry>

            <material name="LightGrey">
                <color rgba="0.7 0.7 0.7 1.0"/>
            </material>
        </visual>
        <!-- <collision>
            <origin rpy="0 0 0" xyz="0 0 0"/>
            <geometry>
                <mesh filename="./meshes_new/toe-output-rl.stl" scale="1 -1 1"/>
            </geometry>
        </collision> -->
    </link>

    <joint name="right_toe_A_rod_joint" type="revolute">
        <origin rpy="0.0374899 0.0049742 1.5964351" xyz="0.057 0 -0.008"/>
        <axis xyz="0 1 0"/>
        <parent link="right_toe_A"/>
        <child link="right_toe_A_rod"/>
        <limit effort="0.9" lower="-3.785398163397" upper="3.785398163397" velocity="11.5"/>
    </joint>

    <!-- <link name="right_toe_A_rod_parent" />

    <joint name="right_toe_A_rod_joint" type="revolute">
        <origin rpy="0 0 0" xyz="0 0 0"/>
        <axis xyz="0 0 1"/>
        <parent link="right_toe_A_rod_parent"/>
        <child link="right_toe_A_rod"/>
        <limit effort="0.9" lower="-3.785398163397" upper="3.785398163397" velocity="11.5"/>
    </joint> -->

    <link name="right_toe_A_rod">
        <inertial>
            <origin rpy="0 0 0" xyz="0.171071 0 0"/>
            <mass value="0.090983"/>
            <inertia ixx="1e-06" ixy="0" ixz="0" iyy="0.001182" iyz="0" izz="0.001182"/>
        </inertial>
        <visual>
            <origin rpy="0 0 0" xyz="0 0 0"/>
            <geometry>
                <mesh filename="./meshes_new/toe-A-rod.stl" scale="1 -1 1"/>
            </geometry>

            <material name="LightGrey">
                <color rgba="0.7 0.7 0.7 1.0"/>
            </material>
        </visual>
        <!-- <collision>
            <origin rpy="0 0 0" xyz="0 0 0"/>
            <geometry>
                <mesh filename="./meshes_new/toe-A-rod.stl" scale="1 -1 1"/>
            </geometry>
        </collision> -->
    </link>

    <joint name="right_toe_B_joint" type="revolute">
        <origin rpy="0 0 1.6049813" xyz="0.111 0.034 0.0276"/>
        <axis xyz="0 0 1"/>
        <parent link="right_tarsus"/>
        <child link="right_toe_B"/>
        <limit effort="0.9" lower="-0.912807183222" upper="1.2644910215" velocity="11.5"/>
    </joint>

    <link name="right_toe_B">
        <inertial>
            <origin rpy="0 0 0" xyz="0.005161 -1e-06 -0.002248"/>
            <mass value="0.139557"/>
            <inertia ixx="2.9e-05" ixy="0" ixz="-4e-06" iyy="5.8e-05" iyz="0" izz="7.4e-05"/>
        </inertial>
        <visual>
            <origin rpy="0 0 0" xyz="0 0 0"/>
            <geometry>
                <mesh filename="./meshes_new/toe-output-rr.stl" scale="1 -1 1"/>
            </geometry>

            <material name="LightGrey">
                <color rgba="0.7 0.7 0.7 1.0"/>
            </material>
        </visual>
        <!-- <collision>
            <origin rpy="0 0 0" xyz="0 0 0"/>
            <geometry>
                <mesh filename="./meshes_new/toe-output-rr.stl" scale="1 -1 1"/>
            </geometry>
        </collision> -->
    </link>

    <joint name="right_toe_B_rod_joint" type="revolute">
        <origin rpy="0.0536482 0.0051326 -1.5948474" xyz="0.057 0 -0.008"/>
        <axis xyz="0 1 0"/>
        <parent link="right_toe_B"/>
        <child link="right_toe_B_rod"/>
        <limit effort="0.9" lower="-3.785398163397" upper="3.785398163397" velocity="11.5"/>
    </joint>

    <!-- <link name="right_toe_B_rod_parent" />

    <joint name="right_toe_B_rod_joint" type="revolute">
        <origin rpy="0 0 0" xyz="0 0 0"/>
        <axis xyz="0 0 1"/>
        <parent link="right_toe_B_rod_parent"/>
        <child link="right_toe_B_rod"/>
        <limit effort="0.9" lower="-3.785398163397" upper="3.785398163397" velocity="11.5"/>
    </joint> -->

    <link name="right_toe_B_rod">
        <inertial>
            <origin rpy="0 0 0" xyz="0.142991 0 0"/>
            <mass value="0.079507"/>
            <inertia ixx="1e-06" ixy="0" ixz="0" iyy="0.000768" iyz="0" izz="0.000768"/>
        </inertial>
        <visual>
            <origin rpy="0 0 0" xyz="0 0 0"/>
            <geometry>
                <mesh filename="./meshes_new/toe-B-rod.stl" scale="1 -1 1"/>
            </geometry>

            <material name="LightGrey">
                <color rgba="0.7 0.7 0.7 1.0"/>
            </material>
        </visual>
        <!-- <collision>
            <origin rpy="0 0 0" xyz="0 0 0"/>
            <geometry>
                <mesh filename="./meshes_new/toe-B-rod.stl" scale="1 -1 1"/>
            </geometry>
        </collision> -->
    </link>

    <joint name="right_toe_pitch_joint" type="revolute">
        <origin rpy="0 0 -1.1956" xyz="0.408 0.04 0"/>
        <axis xyz="0 0 1"/>
        <parent link="right_tarsus"/>
        <child link="right_toe_pitch"/>
        <limit effort="0.9" lower="-0.785398163397" upper="0.785398163397" velocity="11.5"/>
    </joint>

    <link name="right_toe_pitch">
        <inertial>
            <origin rpy="0 0 0" xyz="-0.000141 -2e-06 3e-06"/>
            <mass value="0.043881"/>
            <inertia ixx="5e-06" ixy="0" ixz="0" iyy="8e-06" iyz="0" izz="5e-06"/>
        </inertial>
        <visual>
            <origin rpy="0 0 0" xyz="0 0 0"/>
            <geometry>
                <mesh filename="./meshes_new/toe-pitch.stl" scale="1 -1 1"/>
            </geometry>

            <material name="LightGrey">
                <color rgba="0.7 0.7 0.7 1.0"/>
            </material>
        </visual>
        <!-- <collision>
            <origin rpy="0 0 0" xyz="0 0 0"/>
            <geometry>
                <mesh filename="./meshes_new/toe-pitch.stl" scale="1 -1 1"/>
            </geometry>
        </collision> -->
    </link>

    <joint name="right_toe_roll_joint" type="revolute">
        <origin rpy="0 1.57079632679 0" xyz="0 0 0"/>
        <axis xyz="0 0 1"/>
        <parent link="right_toe_pitch"/>
        <child link="right_toe_roll"/>
        <limit effort="0.9" lower="-0.6109" upper="0.6109" velocity="11.5"/>
    </joint>

    <link name="right_toe_roll">
        <inertial>
            <origin rpy="0 0 0" xyz="9e-06 0.028084 -0.023204"/>
            <mass value="0.531283"/>
            <inertia ixx="0.00187" ixy="0" ixz="0" iyy="0.001616" iyz="-0.000566" izz="0.000843"/>
        </inertial>
        <visual>
            <origin rpy="0 0 0" xyz="0 0 0"/>
            <geometry>
                <mesh filename="./meshes_new/toe-roll.stl" scale="1 -1 1"/>
            </geometry>

            <material name="LightGrey">
                <color rgba="0.7 0.7 0.7 1.0"/>
            </material>
        </visual>
        <!-- <collision>
            <origin rpy="0 0 0" xyz="0 0 0"/>
            <geometry>
                <mesh filename="./meshes_new/toe-roll.stl" scale="1 -1 1"/>
            </geometry>
        </collision> -->
    </link>

    <joint name="right_shoulder_cap_joint" type="fixed">
        <origin rpy="1.57079632679 -1.3962633 -1.57079632679" xyz="0.001 -0.12 0.4"/>
        <axis xyz="0 0 1"/>
        <parent link="torso"/>
        <child link="right_shoulder_cap"/>
        <limit effort="1.4" lower="-1.309" upper="1.309" velocity="12.5"/>
    </joint>

    <link name="right_shoulder_cap">
        <inertial>
            <origin rpy="0 0 0" xyz="9e-06 0.003158 0.023405"/>
            <mass value="0.535396"/>
            <inertia ixx="0.000704" ixy="-1.4e-05" ixz="1.2e-05" iyy="0.00075" iyz="-3.5e-05" izz="0.000298"/>
        </inertial>
        <visual>
            <origin rpy="0 0 0" xyz="0 0 0"/>
            <geometry>
                <mesh filename="./meshes_new/right-shoulder-cap.stl" scale="1 -1 1"/>
            </geometry>

            <material name="LightGrey">
                <color rgba="0.7 0.7 0.7 1.0"/>
            </material>
        </visual>
        <!-- <collision>
            <origin rpy="0 0 0" xyz="0 0 0"/>
            <geometry>
                <mesh filename="./meshes_new/shoulder-roll-housing.stl" scale="1 -1 1"/>
            </geometry>
        </collision> -->
    </link>

    <joint name="right_shoulder_roll_joint" type="revolute">
        <origin rpy="1.57079632679 -1.3962633 -1.57079632679" xyz="-0.001 -0.12 0.4"/>
        <axis xyz="0 0 1"/>
        <parent link="torso"/>
        <child link="right_shoulder_roll"/>
        <limit effort="1.4" lower="-1.309" upper="1.309" velocity="12.5"/>
    </joint>

    <link name="right_shoulder_roll">
        <inertial>
            <origin rpy="0 0 0" xyz="9e-06 -0.003158 0.023405"/>
            <mass value="0.535396"/>
            <inertia ixx="0.000704" ixy="-1.4e-05" ixz="1.2e-05" iyy="0.00075" iyz="-3.5e-05" izz="0.000298"/>
        </inertial>
        <visual>
            <origin rpy="0 0 0" xyz="0 0 0"/>
            <geometry>
                <mesh filename="./meshes_new/arm-L1.stl" scale="1 -1 1"/>
            </geometry>

            <material name="LightGrey">
                <color rgba="0.7 0.7 0.7 1.0"/>
            </material>
        </visual>
        <!-- <collision>
            <origin rpy="0 0 0" xyz="0 0 0"/>
            <geometry>
                <mesh filename="./meshes_new/arm-L1.stl" scale="1 -1 1"/>
            </geometry>
        </collision> -->
    </link>

    <joint name="right_shoulder_pitch_joint" type="revolute">
        <origin rpy="-1.57079632679 0.785398163397 0.0" xyz="-0.00017 0.011055 0.0555"/>
        <axis xyz="0 0 -1"/>
        <parent link="right_shoulder_roll"/>
        <child link="right_shoulder_pitch"/>
        <limit effort="1.4" lower="-2.5307" upper="2.5307" velocity="12.5"/>
    </joint>

    <link name="right_shoulder_pitch">
        <inertial>
            <origin rpy="0 0 0" xyz="-4.2e-05 0.061882 -0.073788"/>
            <mass value="1.440357"/>
            <inertia ixx="0.006761" ixy="6e-06" ixz="-3e-06" iyy="0.002087" iyz="0.002046" izz="0.005778"/>
        </inertial>
        <visual>
            <origin rpy="0 0 0" xyz="0 0 0"/>
            <geometry>
                <mesh filename="./meshes_new/arm-L2.stl" scale="1 -1 1"/>
            </geometry>
            <material name="LightGrey">
                <color rgba="0.7 0.7 0.7 1.0"/>
            </material>
        </visual>
        <!-- <collision>
            <origin rpy="0 0 0" xyz="0 0 0"/>
            <geometry>
                <mesh filename="./meshes_new/arm-L2.stl" scale="1 -1 1"/>
            </geometry>
        </collision> -->
    </link>

    <joint name="shoulder_yaw_joint_right" type="revolute">
        <origin rpy="-1.57079632679 0 0" xyz="0 0.165 -0.1"/>
        <axis xyz="0 0 1"/>
        <parent link="right_shoulder_pitch"/>
        <child link="right_shoulder_yaw"/>
        <limit effort="1.4" lower="-1.7453" upper="1.7453" velocity="10"/>
    </joint>

    <link name="right_shoulder_yaw">
        <inertial>
            <origin rpy="0 0 0" xyz="-3e-05 -0.001937 0.11407"/>
            <mass value="1.065387"/>
            <inertia ixx="0.006967" ixy="-1e-06" ixz="-1e-06" iyy="0.007003" iyz="-1.5e-05" izz="0.000673"/>
        </inertial>
        <visual>
            <origin rpy="0 0 0" xyz="0 0 0"/>
            <geometry>
                <mesh filename="./meshes_new/arm-L3.stl" scale="1 -1 1"/>
            </geometry>

            <material name="LightGrey">
                <color rgba="0.7 0.7 0.7 1.0"/>
            </material>
        </visual>
        <!-- <collision>
            <origin rpy="0 0 0" xyz="0 0 0"/>
            <geometry>
                <mesh filename="./meshes_new/arm-L3.stl" scale="1 -1 1"/>
            </geometry>
        </collision> -->
    </link>

    <joint name="right_elbow_joint" type="revolute">
        <origin rpy="-1.57079632679 -0.3926991 0" xyz="0 0.0385 0.185"/>
        <axis xyz="0 0 1"/>
        <parent link="right_shoulder_yaw"/>
        <child link="right_elbow"/>
        <limit effort="1.4" lower="-1.3526" upper="1.3526" velocity="12.5"/>
    </joint>

    <link name="right_elbow">
        <inertial>
            <origin rpy="0 0 0" xyz="0.107996 0.000521 -0.017765"/>
            <mass value="0.550582"/>
            <inertia ixx="0.000476" ixy="2.9e-05" ixz="0.001403" iyy="0.009564" iyz="-9e-06" izz="0.009437"/>
        </inertial>
        <visual>
            <origin rpy="0 0 0" xyz="0 0 0"/>
            <geometry>
                <mesh filename="./meshes_new/arm-L4.stl" scale="1 -1 1"/>
            </geometry>

            <material name="LightGrey">
                <color rgba="0.7 0.7 0.7 1.0"/>
            </material>
        </visual>
        <!-- <collision>
            <origin rpy="0 0 0" xyz="0 0 0"/>
            <geometry>
                <mesh filename="./meshes_new/arm-L4.stl" scale="1 -1 1"/>
            </geometry>
        </collision> -->
    </link>

    <joint name="cp_left_achillies_rod_joint" type="fixed">
        <origin rpy="0 0 0" xyz="0.501194 -1.28948e-05 -5.20307e-06"/>
        <axis xyz="0 0 1"/>
        <parent link="left_achillies_rod"/>
        <child link="cp_left_achillies_rod"/>
    </joint>

    <link name="cp_left_achillies_rod">
        <visual>
            <origin rpy="0 0 0" xyz="0 0 0"/>
            <geometry>
                <sphere radius="0.010"/>
            </geometry>
            <material name="LightPurple">
                <color rgba="0.6 0.1 0.9 0.7"/>
            </material>
        </visual>
    </link>

    <joint name="cp_left_heel_spring_joint" type="fixed">
        <origin rpy="0 0 0" xyz="0.113789 -0.011056 0"/>
        <axis xyz="0 0 1"/>
        <parent link="left_heel_spring"/>
        <child link="cp_left_heel_spring"/>
    </joint>

    <link name="cp_left_heel_spring">
        <visual>
            <origin rpy="0 0 0" xyz="0 0 0"/>
            <geometry>
                <sphere radius="0.015"/>
            </geometry>
            <material name="LightGreen">
                <color rgba="0.0 0.7 0.0 0.7"/>
            </material>
        </visual>
    </link>

    <joint name="cp_right_achillies_rod_joint" type="fixed">
        <origin rpy="0 0 0" xyz="0.501194 -1.28948e-05 -5.20307e-06"/>
        <axis xyz="0 0 1"/>
        <parent link="right_achillies_rod"/>
        <child link="cp_right_achillies_rod"/>
    </joint>

    <link name="cp_right_achillies_rod">
        <visual>
            <origin rpy="0 0 0" xyz="0 0 0"/>
            <geometry>
                <sphere radius="0.010"/>
            </geometry>
            <material name="LightPurple">
                <color rgba="0.6 0.1 0.9 0.7"/>
            </material>
        </visual>
    </link>

    <joint name="cp_right_heel_spring_joint" type="fixed">
        <origin rpy="0 0 0" xyz="0.113789 0.011056 0"/>
        <axis xyz="0 0 1"/>
        <parent link="right_heel_spring"/>
        <child link="cp_right_heel_spring"/>
    </joint>

    <link name="cp_right_heel_spring">
        <visual>
            <origin rpy="0 0 0" xyz="0 0 0"/>
            <geometry>
                <sphere radius="0.015"/>
            </geometry>
            <material name="LightGreen">
                <color rgba="0.0 0.7 0.0 0.7"/>
            </material>
        </visual>
    </link>

    <joint name="cp_left_toe_A_rod_joint" type="fixed">
        <origin rpy="0 0 0" xyz="0.340004 1.61352e-05 -8.14295e-06"/>
        <axis xyz="0 0 1"/>
        <parent link="left_toe_A_rod"/>
        <child link="cp_left_toe_A_rod"/>
    </joint>

    <link name="cp_left_toe_A_rod">
        <visual>
            <origin rpy="0 0 0" xyz="0 0 0"/>
            <geometry>
                <sphere radius="0.010"/>
            </geometry>
            <material name="LightPurple">
                <color rgba="0.6 0.1 0.9 0.7"/>
            </material>
        </visual>
    </link>

    <joint name="cp_left_toe_roll_A_joint" type="fixed">
        <origin rpy="0 0 0" xyz="0.0179 -0.009551 -0.054164"/>
        <axis xyz="0 0 1"/>
        <parent link="left_toe_roll"/>
        <child link="cp_left_toe_roll_A"/>
    </joint>

    <link name="cp_left_toe_roll_A">
        <visual>
            <origin rpy="0 0 0" xyz="0 0 0"/>
            <geometry>
                <sphere radius="0.015"/>
            </geometry>
            <material name="LightGreen">
                <color rgba="0.0 0.7 0.0 0.7"/>
            </material>
        </visual>
    </link>

    <joint name="cp_left_toe_B_rod_joint" type="fixed">
        <origin rpy="0 0 0" xyz="0.288005 -9.72801e-06 -2.23467e-05"/>
        <axis xyz="0 0 1"/>
        <parent link="left_toe_B_rod"/>
        <child link="cp_left_toe_B_rod"/>
    </joint>

    <link name="cp_left_toe_B_rod">
        <visual>
            <origin rpy="0 0 0" xyz="0 0 0"/>
            <geometry>
                <sphere radius="0.010"/>
            </geometry>
            <material name="LightPurple">
                <color rgba="0.6 0.1 0.9 0.7"/>
            </material>
        </visual>
    </link>

    <joint name="cp_left_toe_roll_B_joint" type="fixed">
        <origin rpy="0 0 0" xyz="-0.0181 -0.009551 -0.054164"/>
        <axis xyz="0 0 1"/>
        <parent link="left_toe_roll"/>
        <child link="cp_left_toe_roll_B"/>
    </joint>

    <link name="cp_left_toe_roll_B">
        <visual>
            <origin rpy="0 0 0" xyz="0 0 0"/>
            <geometry>
                <sphere radius="0.015"/>
            </geometry>
            <material name="LightGreen">
                <color rgba="0.0 0.7 0.0 0.7"/>
            </material>
        </visual>
    </link>

    <joint name="cp_right_toe_A_rod_joint" type="fixed">
        <origin rpy="0 0 0" xyz="0.340004 1.61352e-05 -8.14295e-06"/>
        <axis xyz="0 0 1"/>
        <parent link="right_toe_A_rod"/>
        <child link="cp_right_toe_A_rod"/>
    </joint>

    <link name="cp_right_toe_A_rod">
        <visual>
            <origin rpy="0 0 0" xyz="0 0 0"/>
            <geometry>
                <sphere radius="0.010"/>
            </geometry>
            <material name="LightPurple">
                <color rgba="0.6 0.1 0.9 0.7"/>
            </material>
        </visual>
    </link>

    <joint name="cp_right_toe_roll_A_joint" type="fixed">
        <origin rpy="0 0 0" xyz="0.0179 0.009551 -0.054164"/>
        <axis xyz="0 0 1"/>
        <parent link="right_toe_roll"/>
        <child link="cp_right_toe_roll_A"/>
    </joint>

    <link name="cp_right_toe_roll_A">
        <visual>
            <origin rpy="0 0 0" xyz="0 0 0"/>
            <geometry>
                <sphere radius="0.015"/>
            </geometry>
            <material name="LightGreen">
                <color rgba="0.0 0.7 0.0 0.7"/>
            </material>
        </visual>
    </link>

    <joint name="cp_right_toe_B_rod_joint" type="fixed">
        <origin rpy="0 0 0" xyz="0.288005 -9.72801e-06 -2.23467e-05"/>
        <axis xyz="0 0 1"/>
        <parent link="right_toe_B_rod"/>
        <child link="cp_right_toe_B_rod"/>
    </joint>

    <link name="cp_right_toe_B_rod">
        <visual>
            <origin rpy="0 0 0" xyz="0 0 0"/>
            <geometry>
                <sphere radius="0.010"/>
            </geometry>
            <material name="LightPurple">
                <color rgba="0.6 0.1 0.9 0.7"/>
            </material>
        </visual>
    </link>

    <joint name="cp_right_toe_roll_B_joint" type="fixed">
        <origin rpy="0 0 0" xyz="-0.0181 0.009551 -0.054164"/>
        <axis xyz="0 0 1"/>
        <parent link="right_toe_roll"/>
        <child link="cp_right_toe_roll_B"/>
    </joint>

    <link name="cp_right_toe_roll_B">
        <visual>
            <origin rpy="0 0 0" xyz="0 0 0"/>
            <geometry>
                <sphere radius="0.015"/>
            </geometry>
            <material name="LightGreen">
                <color rgba="0.0 0.7 0.0 0.7"/>
            </material>
        </visual>
    </link>

    <link name="contact1">
        <visual>
            <origin rpy="0 0 0" xyz="-0.04000014 -0.11085709 0.07003817"/>
            <geometry>
                <sphere radius="0.015"/>
            </geometry>
            <material name="LightBlue">
                <color rgba="0.0 0.0 0.7 0.7"/>
            </material>
        </visual>
    </link>
    <link name="contact2">
        <visual>
            <origin rpy="0 0 0" xyz="0.03999983 -0.11082681 0.07005585"/>
            <geometry>
                <sphere radius="0.015"/>
            </geometry>
            <material name="LightBlue">
                <color rgba="0.0 0.0 0.7 0.7"/>
            </material>
        </visual>
    </link>
    <link name="contact3">
        <visual>
            <origin rpy="0 0 0" xyz="-0.04000029 0.00799069 -0.13385178"/>
            <geometry>
                <sphere radius="0.015"/>
            </geometry>
            <material name="LightBlue">
                <color rgba="0.0 0.0 0.7 0.7"/>
            </material>
        </visual>
    </link>
    <link name="contact4">
        <visual>
            <origin rpy="0 0 0" xyz="0.03999968 0.00802097 -0.13383410"/>
            <geometry>
                <sphere radius="0.015"/>
            </geometry>
            <material name="LightBlue">
                <color rgba="0.0 0.0 0.7 0.7"/>
            </material>
        </visual>
    </link>
    <link name="contact5">
        <visual>
            <origin rpy="0 0 0" xyz="0.03999945 0.11063009 0.07017034"/>
            <geometry>
                <sphere radius="0.015"/>
            </geometry>
            <material name="LightBlue">
                <color rgba="0.0 0.0 0.7 0.7"/>
            </material>
        </visual>
    </link>
    <link name="contact6">
        <visual>
            <origin rpy="0 0 0" xyz="-0.04000014 0.11085020 0.07004217"/>
            <geometry>
                <sphere radius="0.015"/>
            </geometry>
            <material name="LightBlue">
                <color rgba="0.0 0.0 0.7 0.7"/>
            </material>
        </visual>
    </link>
    <link name="contact7">
        <visual>
            <origin rpy="0 0 0" xyz="0.03999968 -0.00801787 -0.13383595"/>
            <geometry>
                <sphere radius="0.015"/>
            </geometry>
            <material name="LightBlue">
                <color rgba="0.0 0.0 0.7 0.7"/>
            </material>
        </visual>
    </link>
    <link name="contact8">
        <visual>
            <origin rpy="0 0 0" xyz="-0.04000029 -0.00798741 -0.13385373"/>
            <geometry>
                <sphere radius="0.015"/>
            </geometry>
            <material name="LightBlue">
                <color rgba="0.0 0.0 0.7 0.7"/>
            </material>
        </visual>
    </link>

    <joint name="contact1_joint" type="fixed">
        <origin rpy="0 0 0" xyz="0 0 0"/>
        <parent link="left_toe_roll"/>
        <child link="contact1"/>
    </joint>
    <joint name="contact2_joint" type="fixed">
        <origin rpy="0 0 0" xyz="0 0 0"/>
        <parent link="left_toe_roll"/>
        <child link="contact2"/>
    </joint>
    <joint name="contact3_joint" type="fixed">
        <origin rpy="0 0 0" xyz="0 0 0"/>
        <parent link="left_toe_roll"/>
        <child link="contact3"/>
    </joint>
    <joint name="contact4_joint" type="fixed">
        <origin rpy="0 0 0" xyz="0 0 0"/>
        <parent link="left_toe_roll"/>
        <child link="contact4"/>
    </joint>
    <joint name="contact5_joint" type="fixed">
        <origin rpy="0 0 0" xyz="0 0 0"/>
        <parent link="right_toe_roll"/>
        <child link="contact5"/>
    </joint>
    <joint name="contact6_joint" type="fixed">
        <origin rpy="0 0 0" xyz="0 0 0"/>
        <parent link="right_toe_roll"/>
        <child link="contact6"/>
    </joint>
    <joint name="contact7_joint" type="fixed">
        <origin rpy="0 0 0" xyz="0 0 0"/>
        <parent link="right_toe_roll"/>
        <child link="contact7"/>
    </joint>
    <joint name="contact8_joint" type="fixed">
        <origin rpy="0 0 0" xyz="0 0 0"/>
        <parent link="right_toe_roll"/>
        <child link="contact8"/>
    </joint>

</robot>
